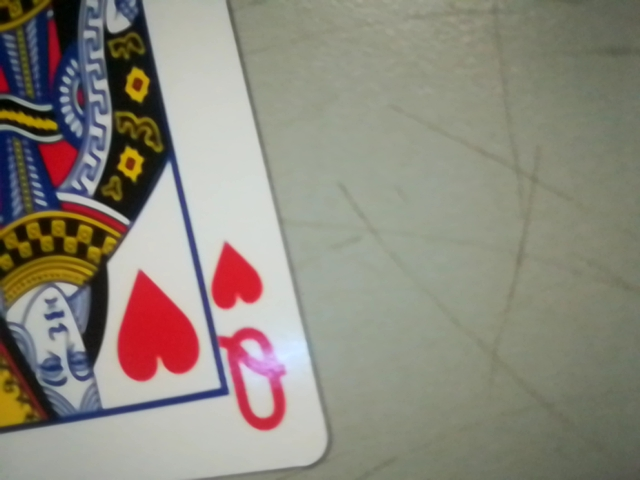hx q: (202, 228, 303, 454)
